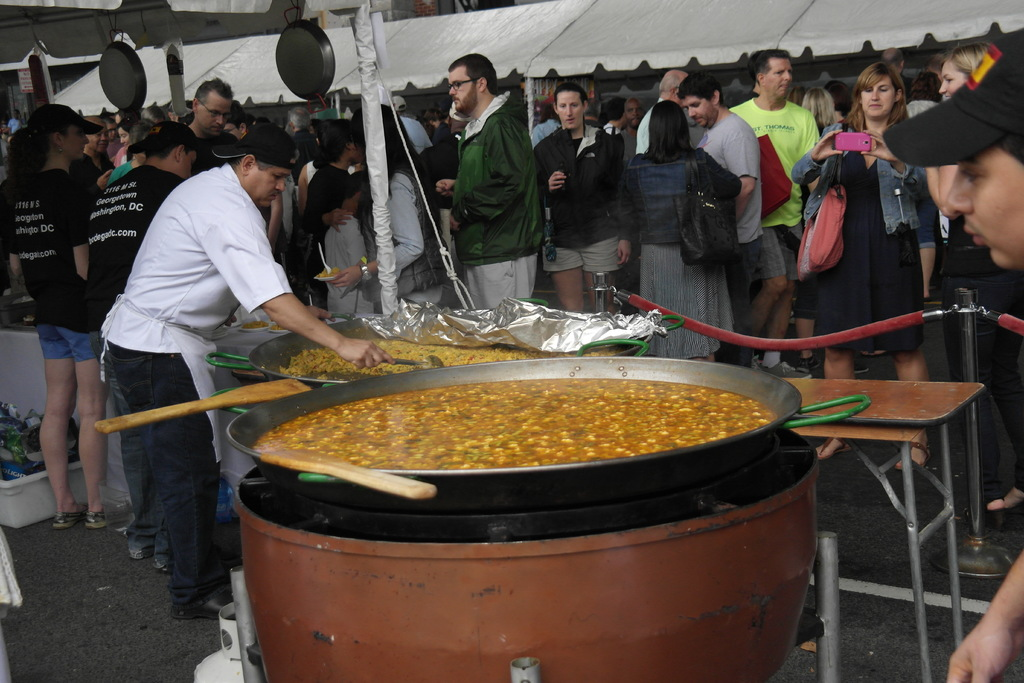Person: (0, 39, 1024, 683)
